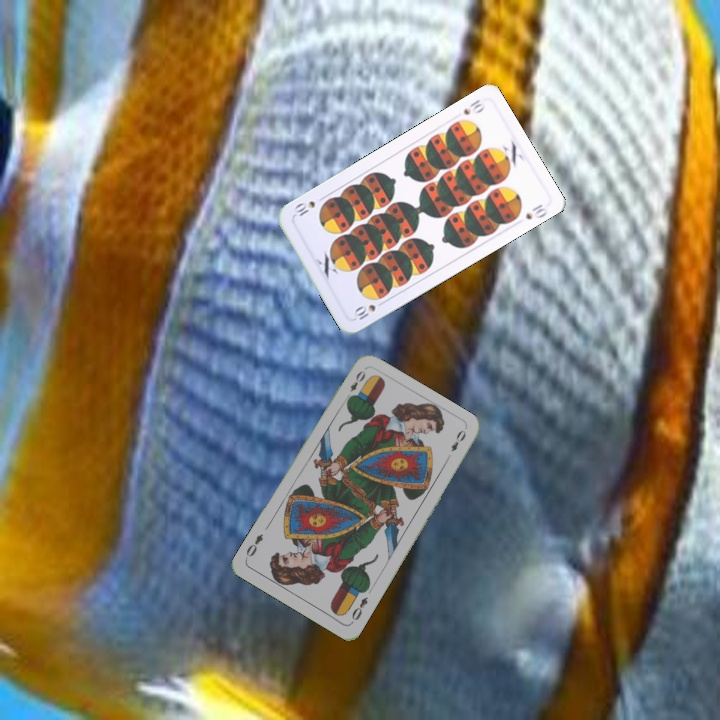EO: (341, 366, 368, 403), (347, 593, 370, 626)
S10: (350, 297, 388, 324), (459, 95, 488, 118)
